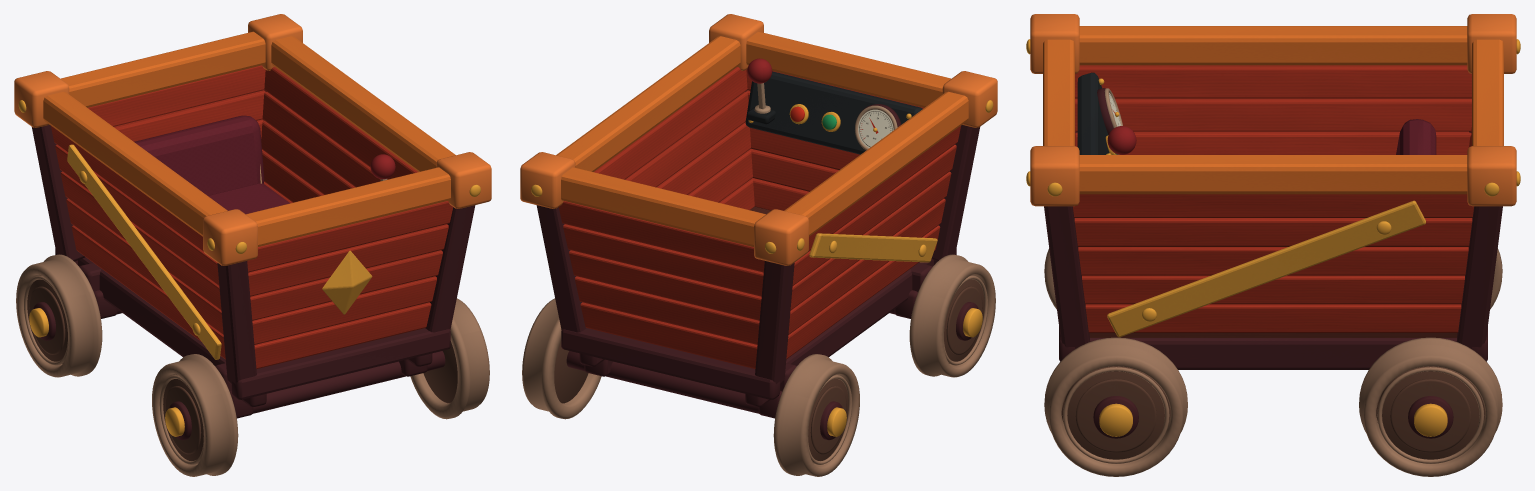
Rendered from Vehicle_Minecart_RedCopper_001.glb.
3 renders of one model, left to right at view 1: azimuth 30°, elevation 25°; view 2: azimuth 150°, elevation 25°; view 3: azimuth 270°, elevation 25°, orthographic. The views are drawn at different scales.
Parts seen in each view (by area): view 1: RedCopper_Body, RedCopper_Wheel_RL, RedCopper_Wheel_FL, RedCopper_Wheel_FR, RedCopper_Lever; view 2: RedCopper_Body, RedCopper_Wheel_FL, RedCopper_Wheel_RL, RedCopper_Wheel_RR, RedCopper_Lever; view 3: RedCopper_Body, RedCopper_Wheel_FR, RedCopper_Wheel_RR, RedCopper_Lever.
Part boxes in pixels (left/top/right/bottom): RedCopper_Body: left=14, top=14, right=491, bottom=418; RedCopper_Wheel_RL: left=16, top=254, right=102, bottom=377; RedCopper_Wheel_FL: left=152, top=354, right=238, bottom=476; RedCopper_Wheel_FR: left=410, top=298, right=489, bottom=419; RedCopper_Lever: left=370, top=154, right=395, bottom=180; RedCopper_Body: left=520, top=14, right=997, bottom=418; RedCopper_Wheel_FL: left=909, top=254, right=995, bottom=377; RedCopper_Wheel_RL: left=773, top=354, right=859, bottom=476; RedCopper_Wheel_RR: left=522, top=298, right=601, bottom=419; RedCopper_Lever: left=747, top=58, right=772, bottom=113; RedCopper_Body: left=1026, top=14, right=1520, bottom=369; RedCopper_Wheel_FR: left=1044, top=337, right=1187, bottom=476; RedCopper_Wheel_RR: left=1359, top=337, right=1502, bottom=476; RedCopper_Lever: left=1107, top=126, right=1136, bottom=154.
Bounding box in the file's own units: 2.05 × 1.79 × 2.55.
1 material, 1 textured.
